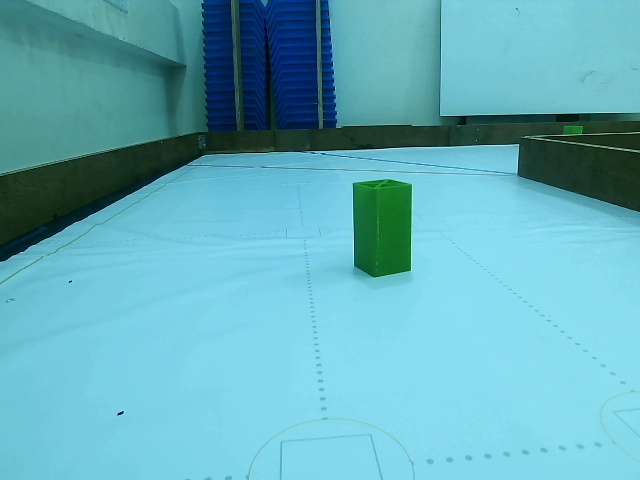green: (352, 180, 411, 280)
greenwd: (350, 180, 417, 280)
